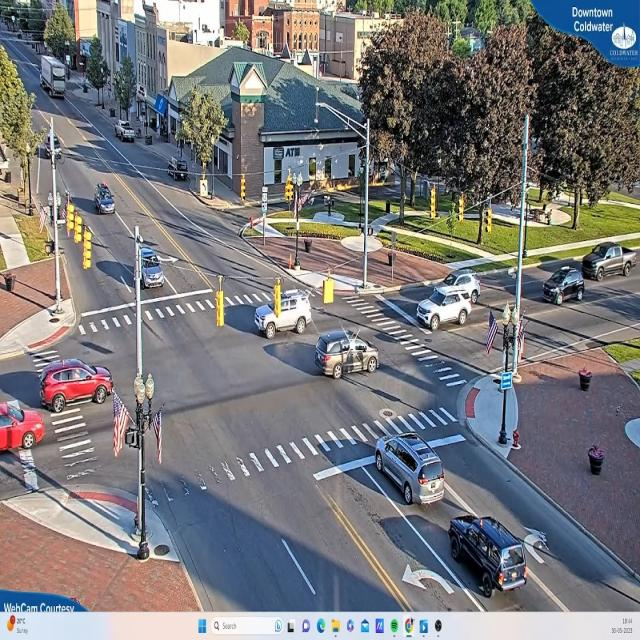car: (449, 514, 532, 594), (373, 432, 445, 506), (39, 362, 112, 411), (313, 328, 378, 378), (255, 288, 316, 338), (0, 398, 47, 455), (410, 292, 476, 331), (582, 242, 638, 280), (542, 270, 584, 305), (144, 240, 166, 288), (94, 184, 115, 213), (117, 120, 138, 143)
truck: (39, 58, 68, 96)
